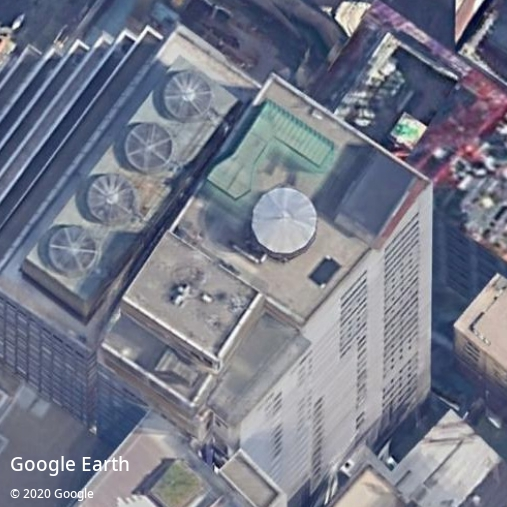Vent: (125, 122, 175, 171), (163, 71, 212, 119), (48, 226, 98, 273), (87, 174, 136, 221)
